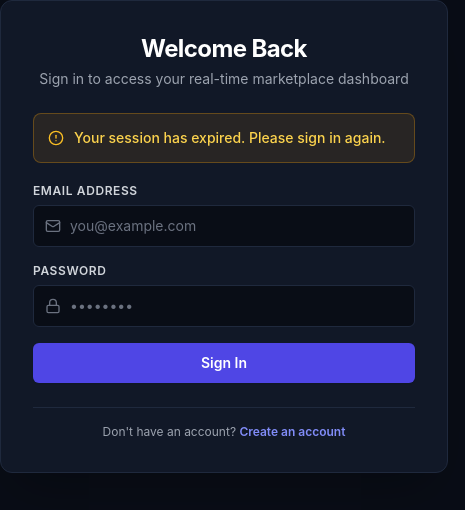
Test: LoginForm (Fake DOM / Component Tests) › should display error alert banner when API responds with 401
Type "wrong@example.com" into the field labelled "Email Address" at (224, 226), box [33,205,415,247]
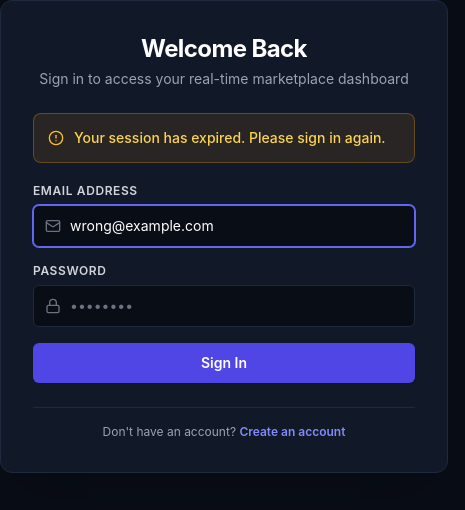
Type "WrongPass123!" into the password field labelled "Password" at (224, 306), box [33,285,415,327]
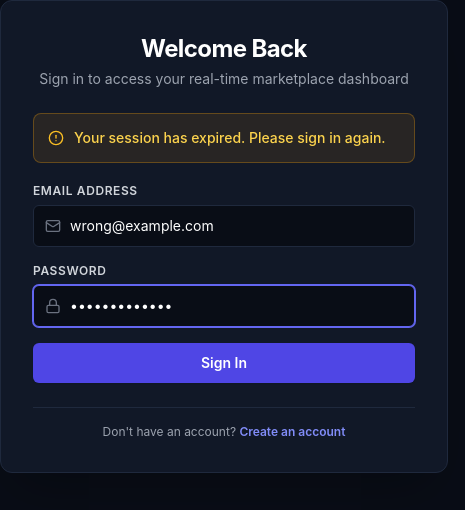
Click the button with test id "submit-button" at (224, 363), box [33,343,415,383]
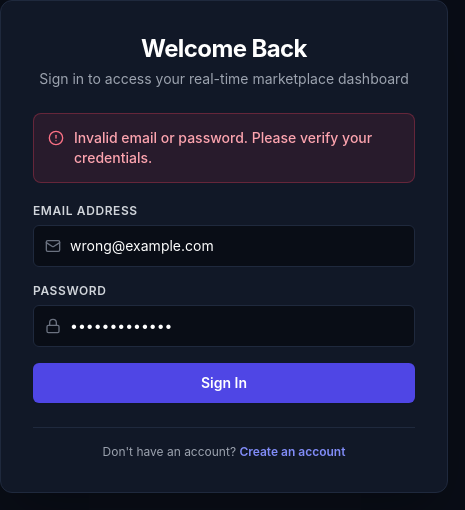
expect the message "Invalid email or password. Please verify your credentials." is shown: met, box [33,113,415,183]
expect the message with test id "error-alert" shows "Invalid email or password": met, box [74,129,372,166]
